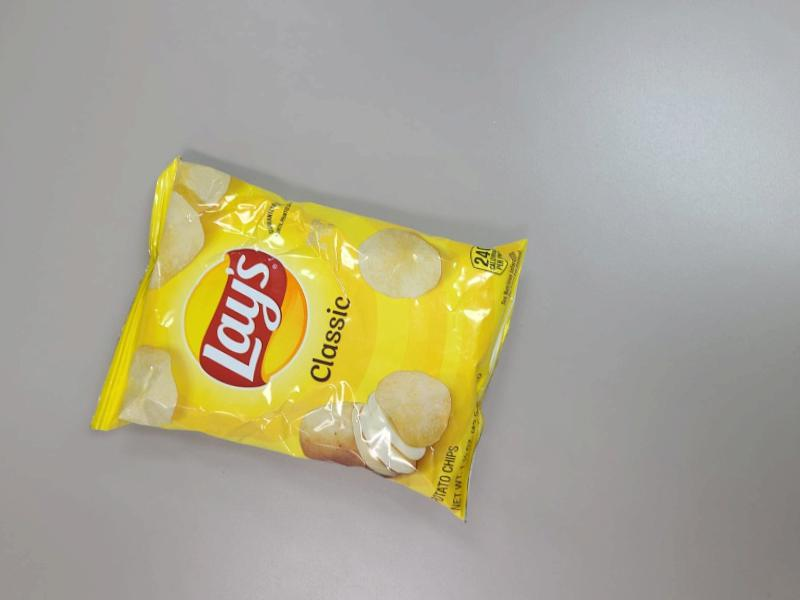lays: (59, 162, 534, 523)
